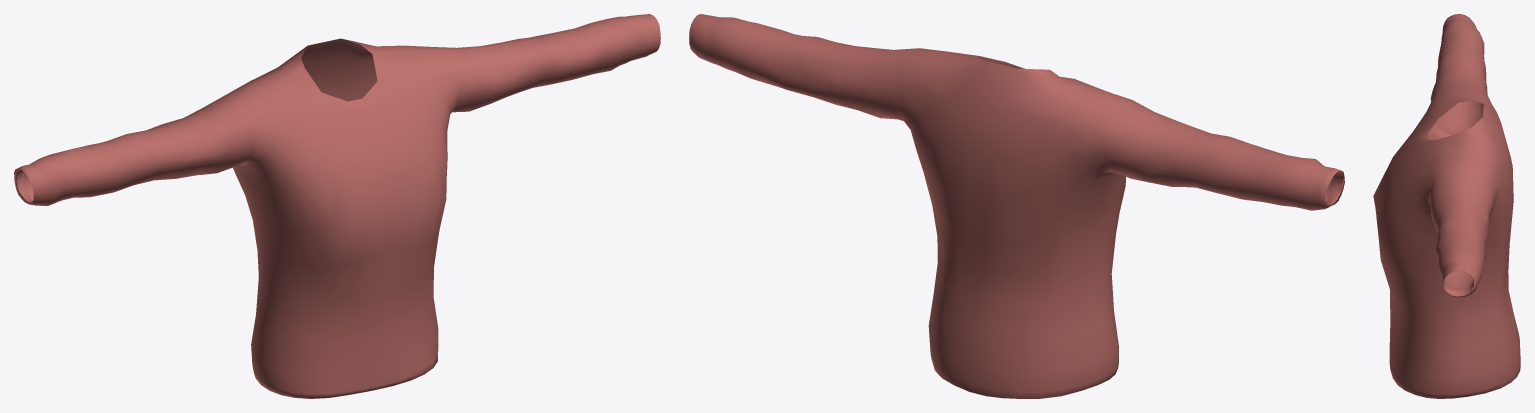
File: Hoodie.fbx
3 views of the same model, side by side, from view 1: azimuth 30°, elevation 25°; view 2: azimuth 150°, elevation 25°; view 3: azimuth 270°, elevation 25° (orthographic). The views are drawn at different scales.
Parts seen in each view (by area): view 1: Hoodie_lo; view 2: Hoodie_lo; view 3: Hoodie_lo.
Boxes of the visible parts, bbox=[...] form: Hoodie_lo: bbox=[14, 14, 660, 398]; Hoodie_lo: bbox=[689, 14, 1344, 398]; Hoodie_lo: bbox=[1373, 14, 1520, 398].
Bounding box in the file's own units: 149 × 69.48 × 36.06.
